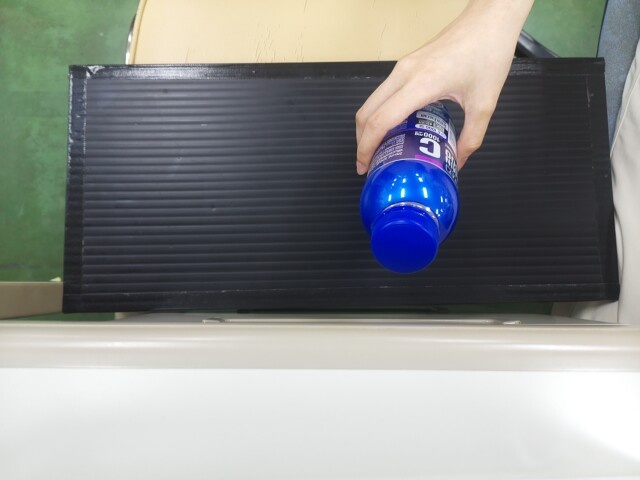plastic_bottle: (365, 108, 453, 272)
